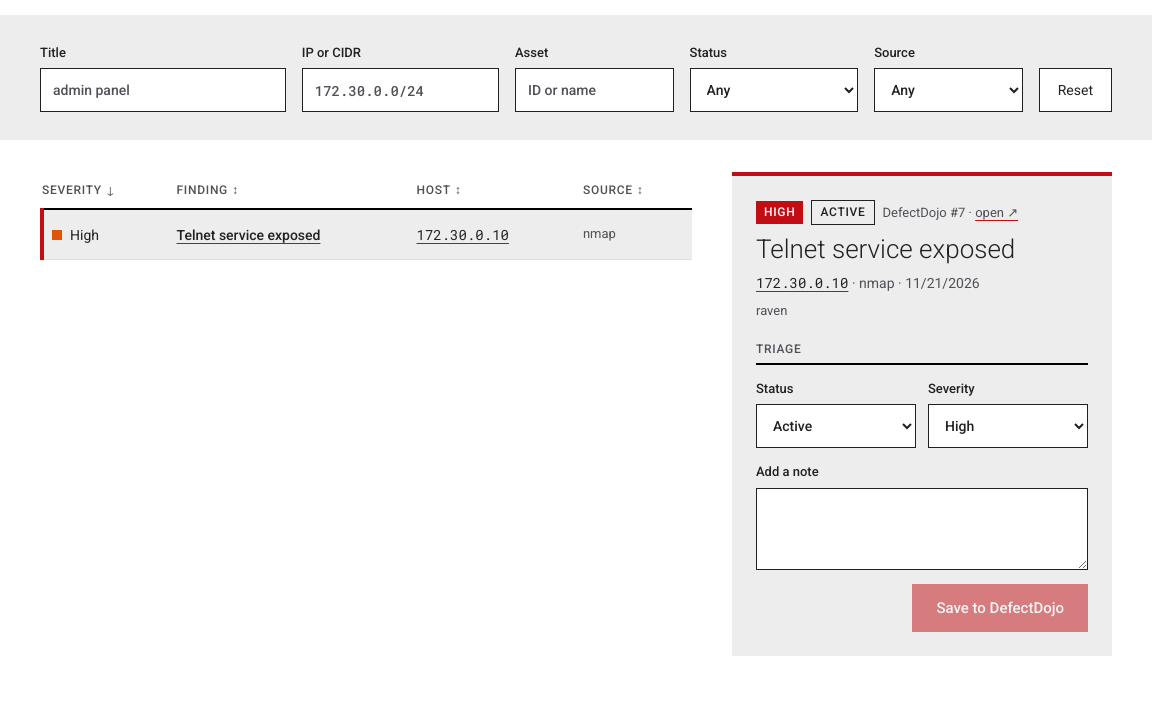
Scenario: Findings page › shows the API error message
This screenshot has width=1152, height=720.
(page scrolled)
Expected: the button "Save to DefectDojo" is disabled, x1=912 y1=584 x2=1088 y2=632
Select "Mitigated" in the dropdown labelled "Status" below "Triage" at (836, 426), box x1=756 y1=404 x2=916 y2=448
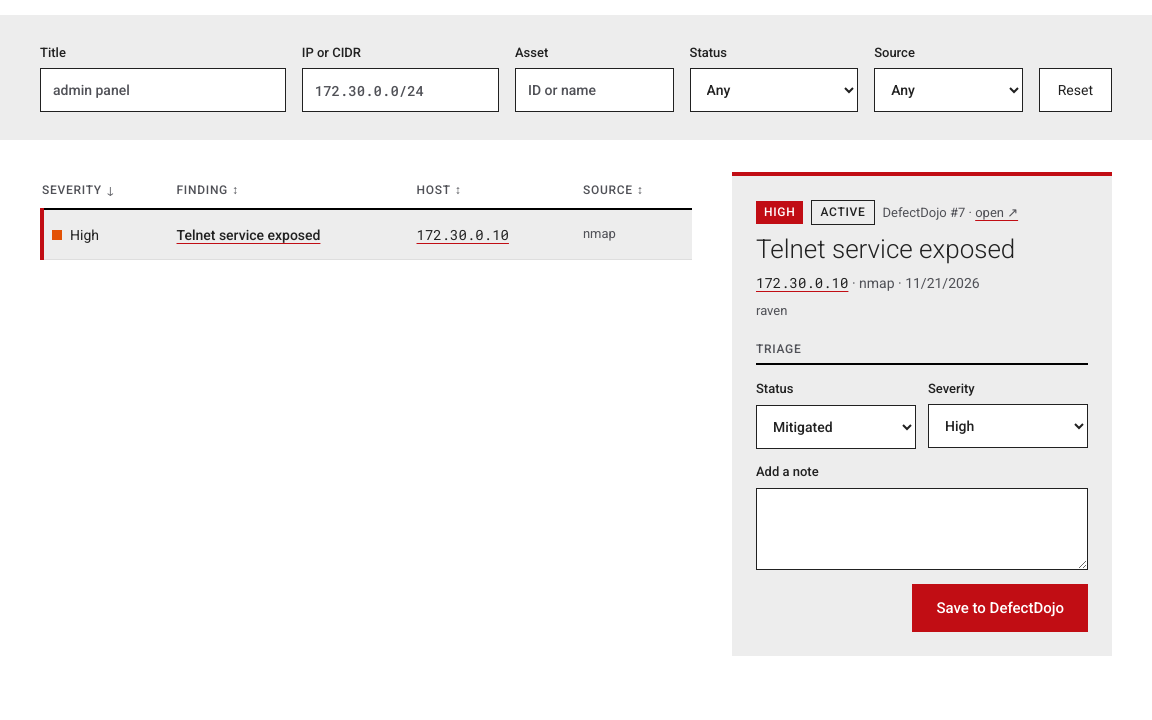
Click the button "Save to DefectDojo" at (1000, 608), box x1=912 y1=584 x2=1088 y2=632
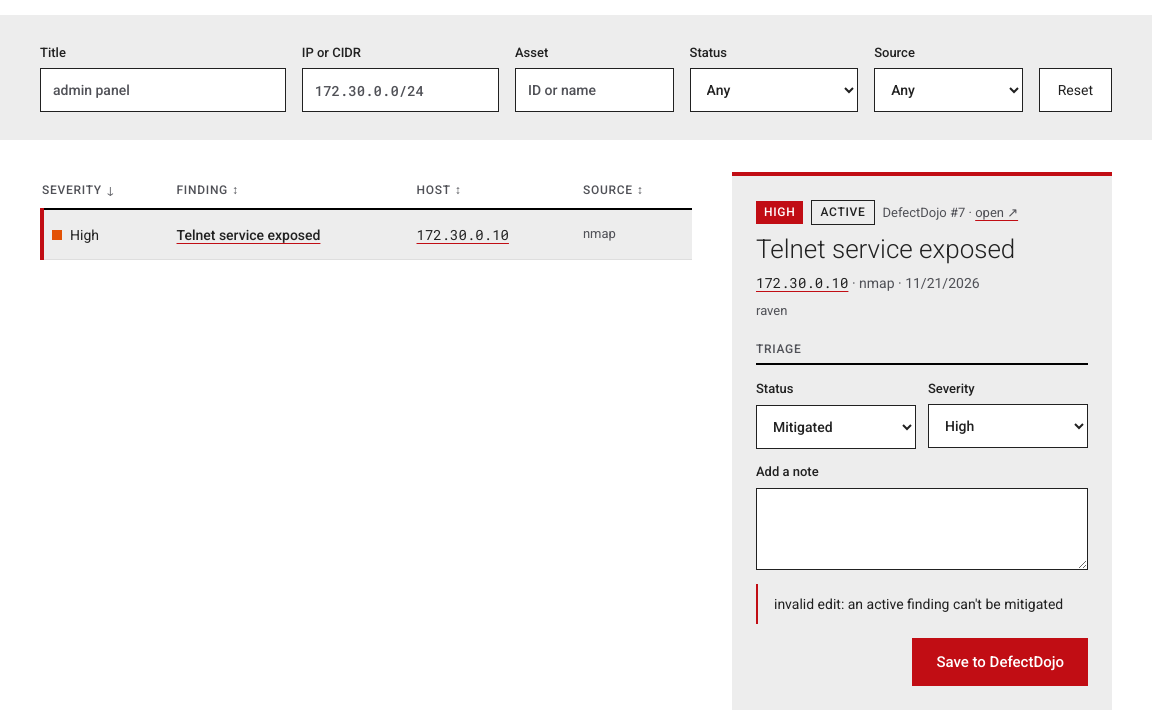
Result: the message shows "an active finding can't be mitigated" at x1=774 y1=596 x2=1063 y2=612
